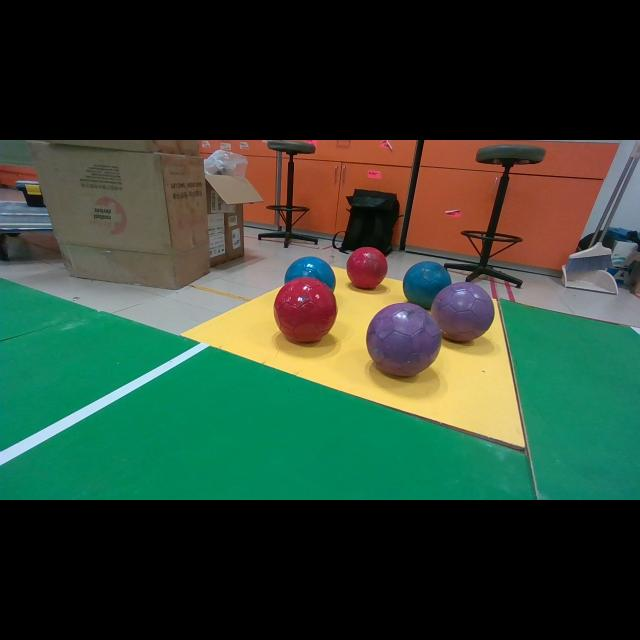B: (402, 261, 451, 309), (286, 256, 336, 291)
P: (366, 302, 442, 376), (431, 282, 495, 342)
R: (274, 278, 338, 342), (348, 248, 386, 288)
